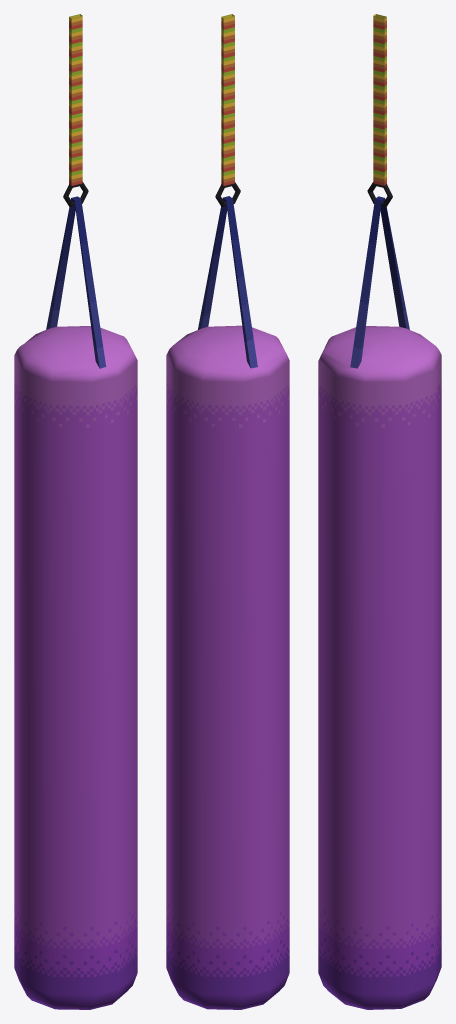
Rendered from Saco_Chiquito.fbx.
3 views of the same model, side by side, from view 1: azimuth 30°, elevation 25°; view 2: azimuth 210°, elevation 25°; view 3: azimuth 330°, elevation 25° (orthographic).
Visible parts, largest first — view 1: saco, CINTA_g_1; view 2: saco, CINTA_g_1; view 3: saco, CINTA_g_1.
Boxes of the visible parts, x1=… form: saco: x1=14, y1=196, x2=137, y2=1009; CINTA_g_1: x1=63, y1=14, x2=88, y2=206; saco: x1=166, y1=196, x2=289, y2=1009; CINTA_g_1: x1=215, y1=14, x2=240, y2=206; saco: x1=318, y1=196, x2=441, y2=1009; CINTA_g_1: x1=367, y1=14, x2=392, y2=206.
Size of the model in its own units: 13.61 by 119 by 13.
